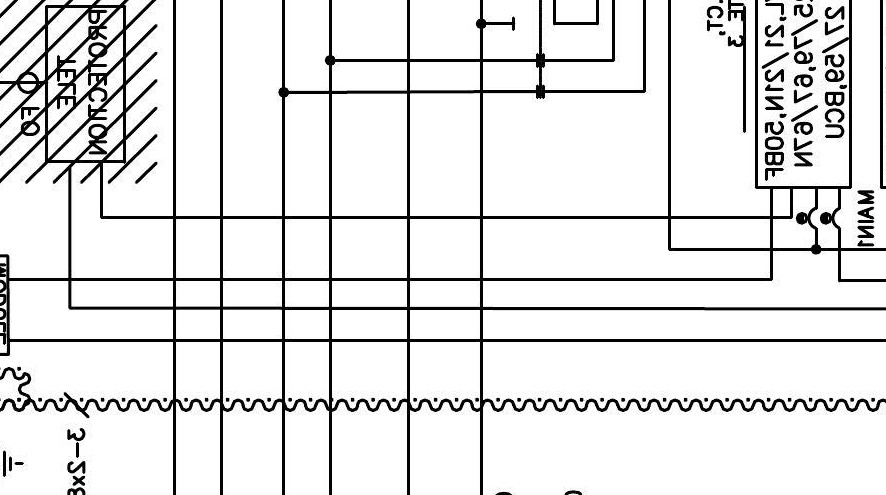tele_protection: (43, 2, 129, 165)
